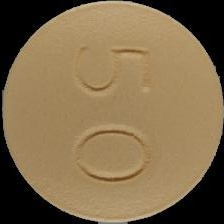49702-228: (0, 0, 224, 224)
